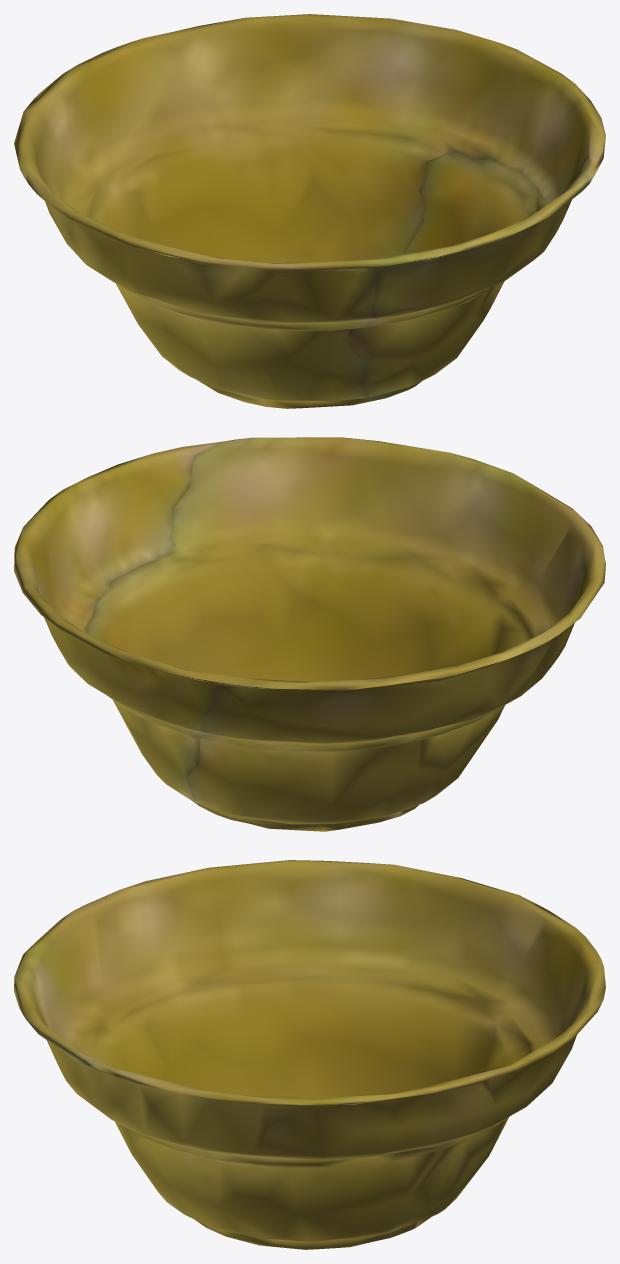
The model's file is Ecoforms_Plant_Bowl_Atlas_Low-medium.glb.
The picture shows the model from 3 angles, top to bottom: view 1: azimuth 30°, elevation 25°; view 2: azimuth 150°, elevation 25°; view 3: azimuth 270°, elevation 25°; orthographic projection.
Parts seen in each view (by area): view 1: Ecoforms_Plant_Bowl_Atlas_Low; view 2: Ecoforms_Plant_Bowl_Atlas_Low; view 3: Ecoforms_Plant_Bowl_Atlas_Low.
Part boxes in pixels (x1,y1,x2,y2): Ecoforms_Plant_Bowl_Atlas_Low: (14,14,605,408); Ecoforms_Plant_Bowl_Atlas_Low: (14,437,605,831); Ecoforms_Plant_Bowl_Atlas_Low: (14,860,605,1249).
Bounding box in the file's own units: 0.3217 × 0.1342 × 0.3217.
Materials: 1 (1 with a texture image).
